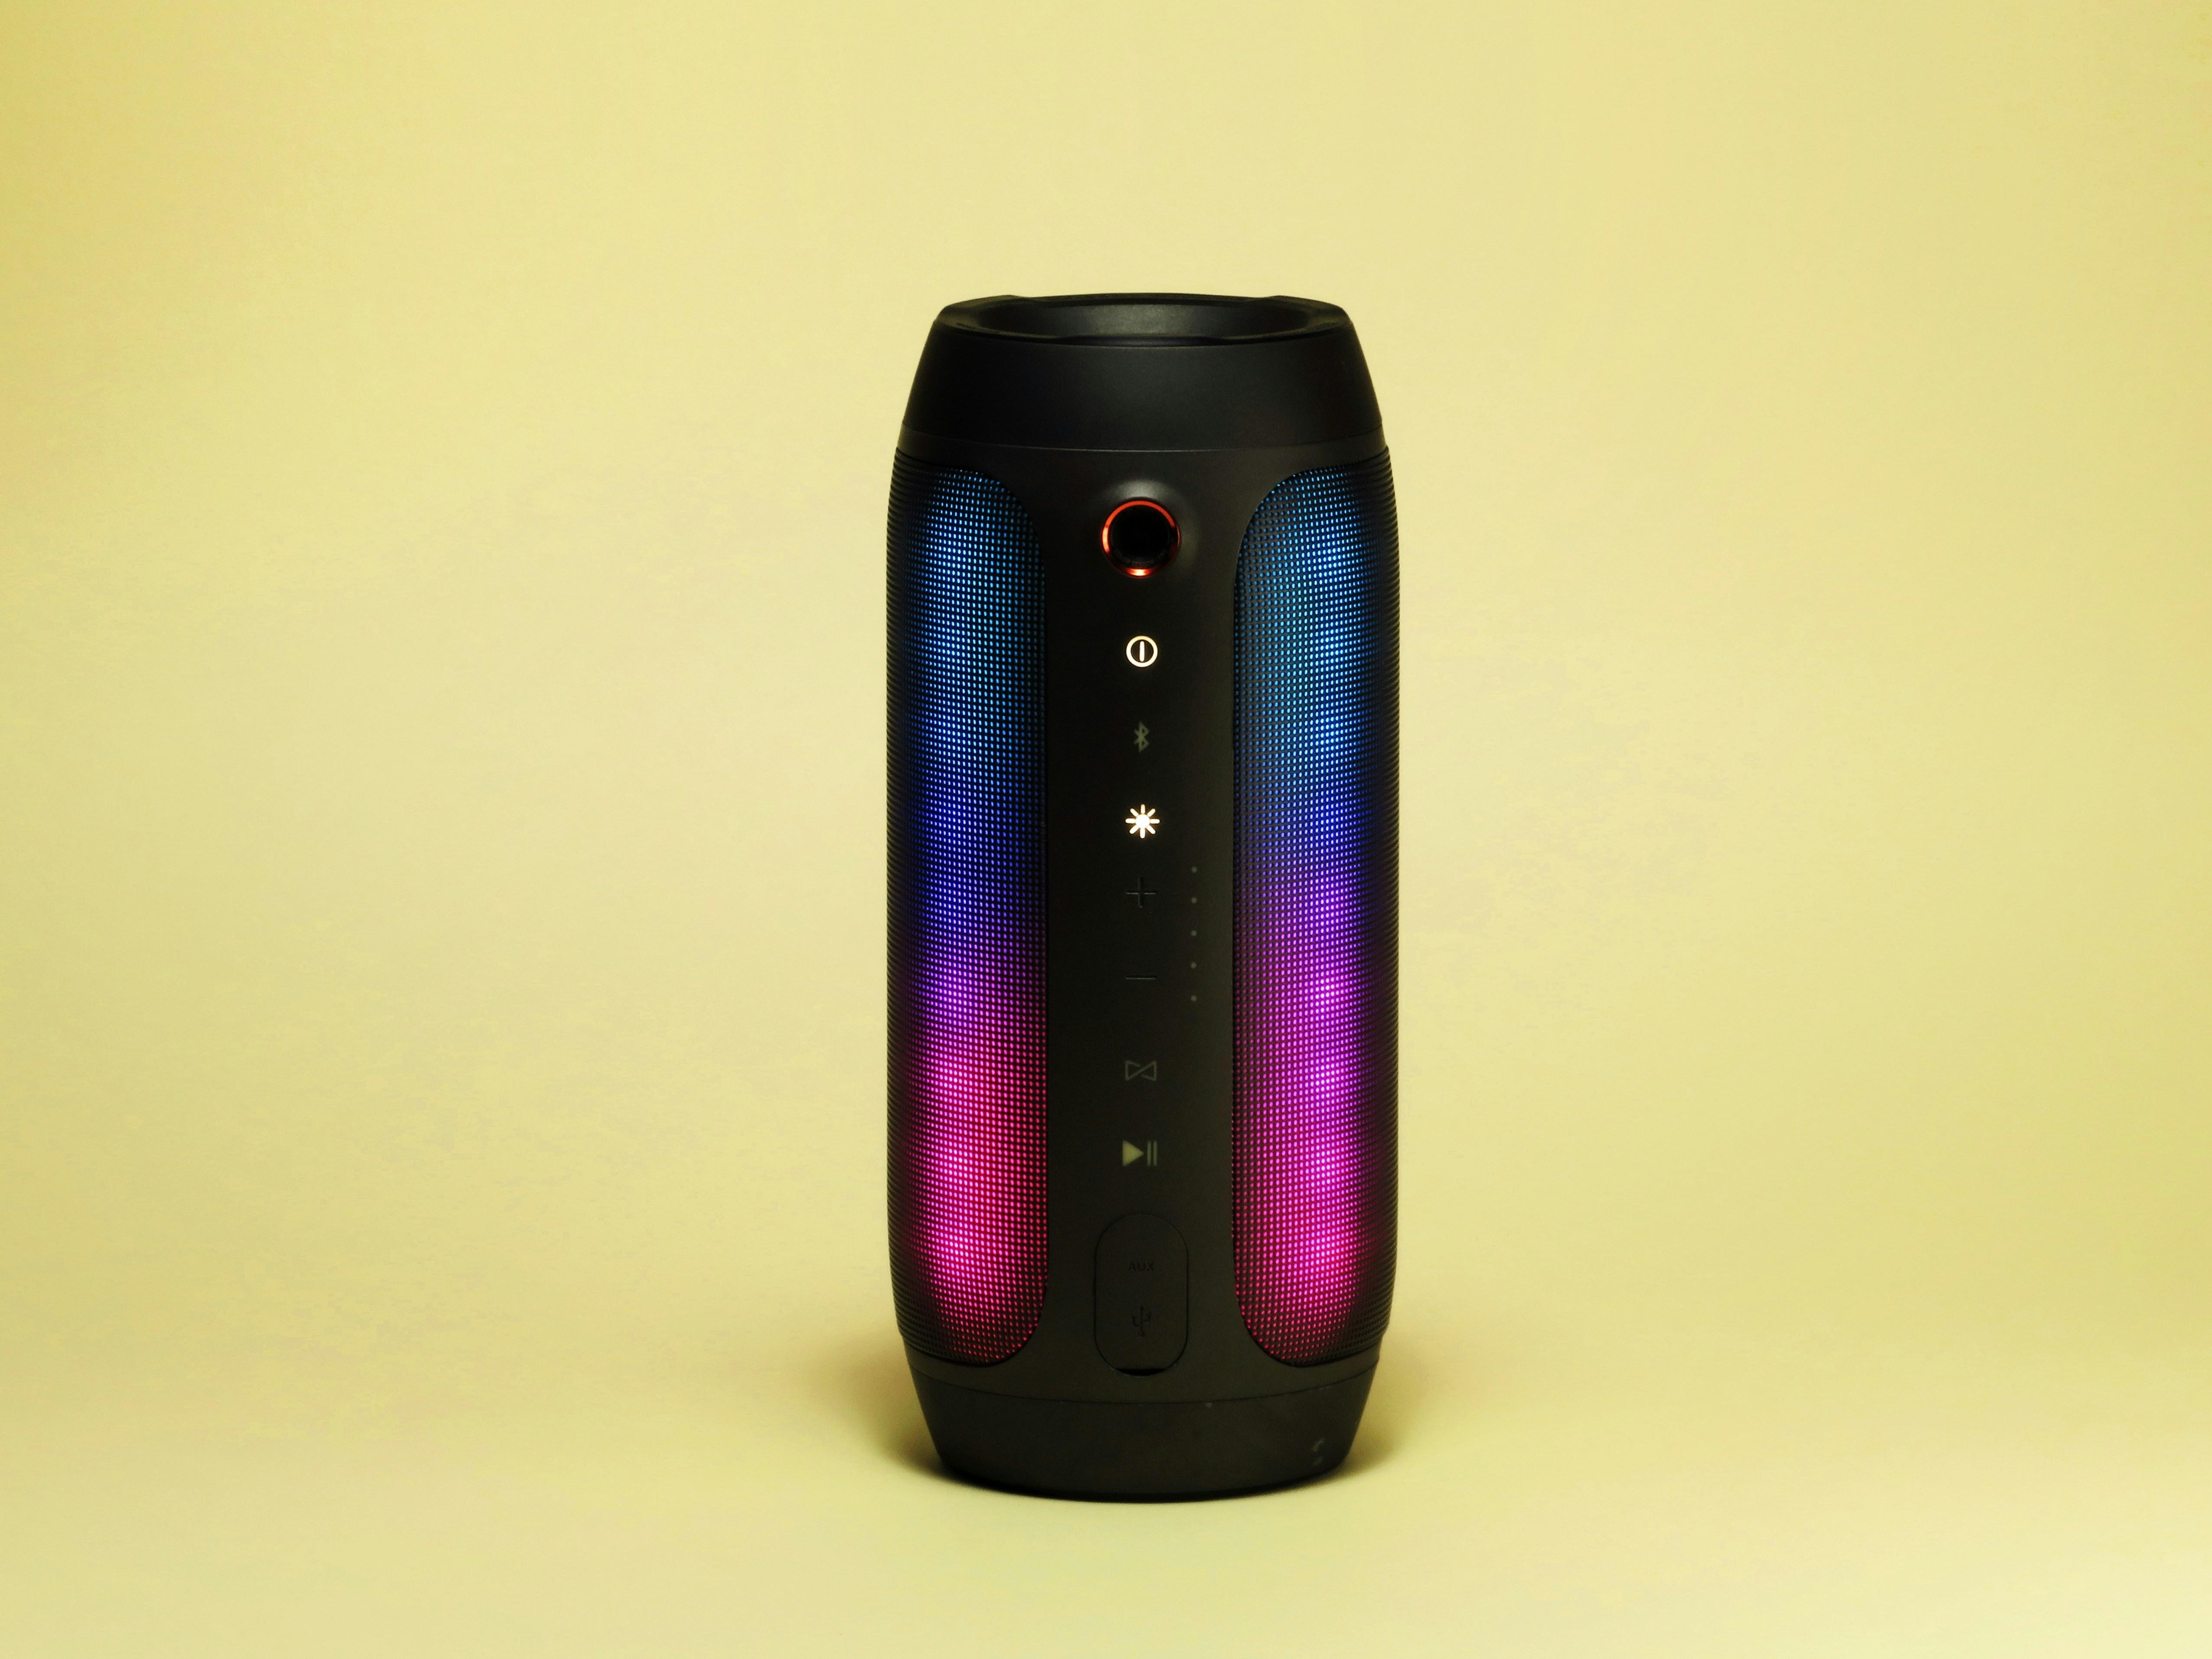speaker: (885, 284, 1407, 1516)
